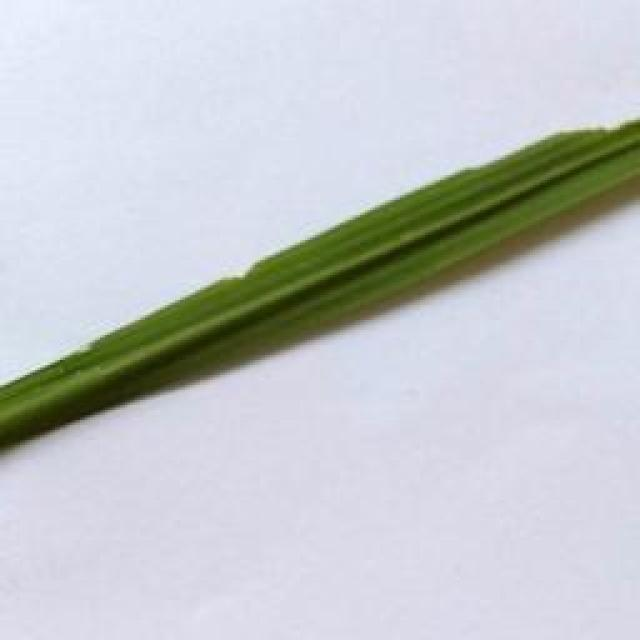Healthy-Plant: (300, 195, 531, 349), (100, 287, 300, 412), (2, 359, 132, 455), (527, 148, 640, 224)
